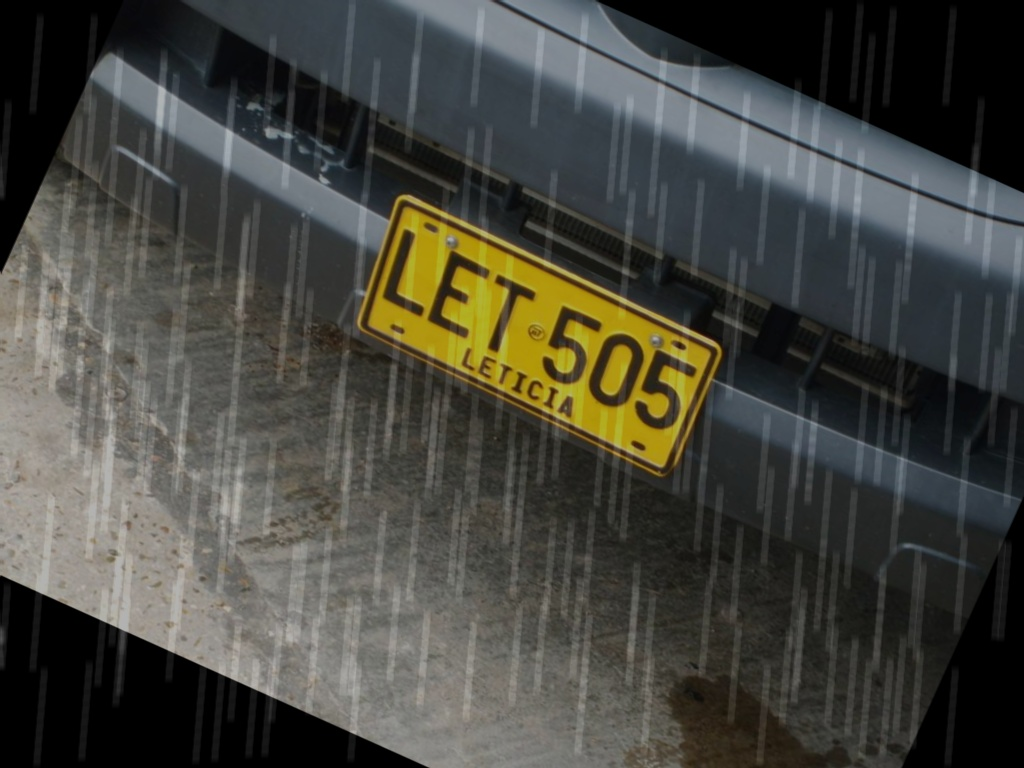placas: (331, 183, 738, 486)
